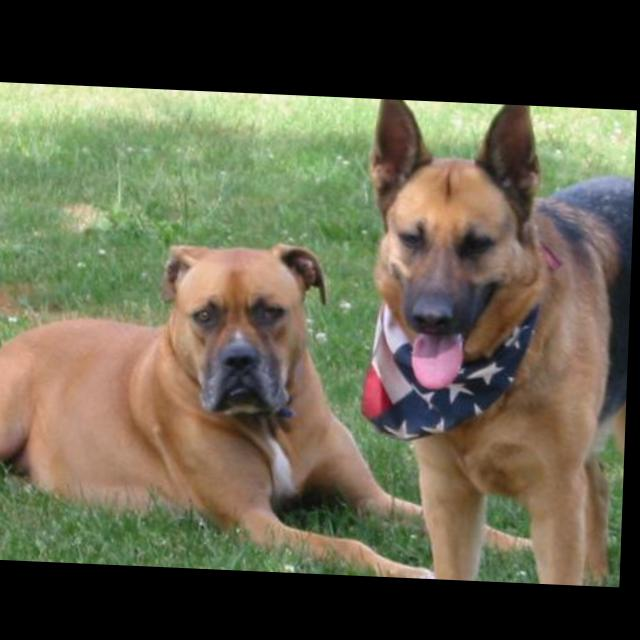bullmastiff: (1, 231, 552, 579)
other_dog_breed: (359, 96, 639, 582)
